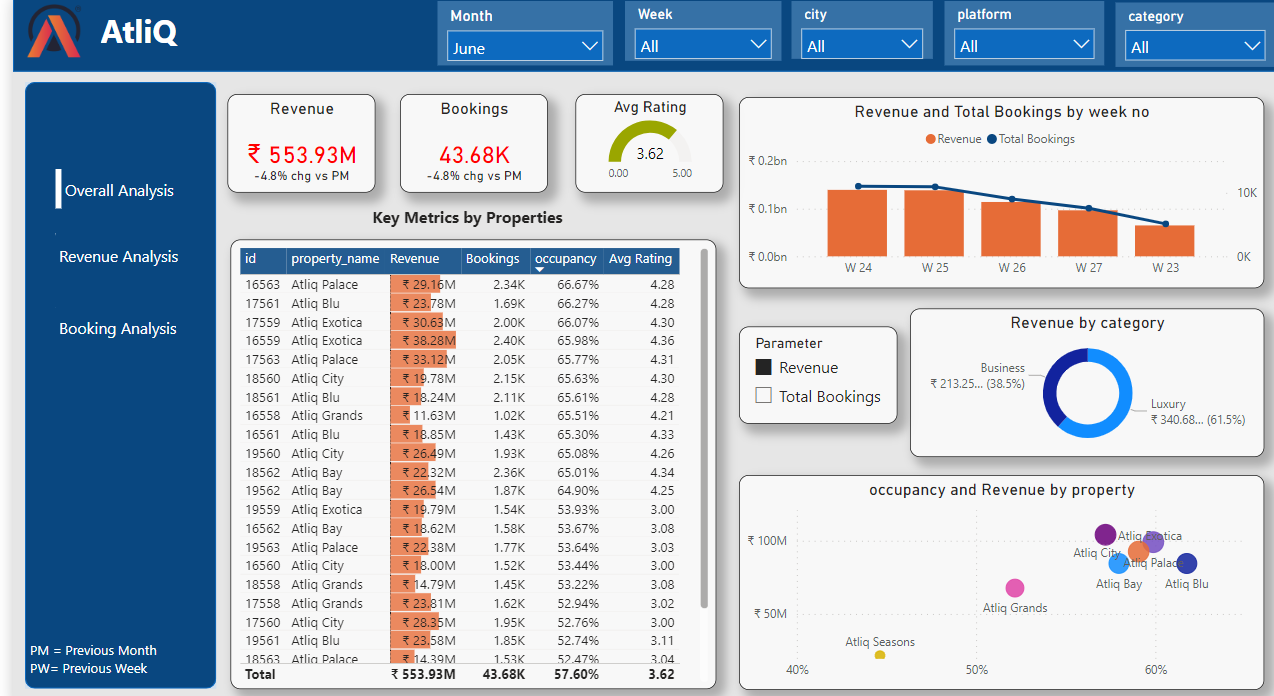

This screenshot's page, from the dashboard's own definition file:
{"tool":"powerbi","page":{"name":"Home","canvas":[1280,720],"ordinal":0},"visuals":[{"type":"shape","box":[0,0,1281.1,74.7],"z":0},{"type":"slicer","fields":{"Values":["dim_date.mmm-yy"]},"box":[430.7,3.7,178,65.2],"z":1000},{"type":"image","box":[0,0,84.7,65.5],"z":2000},{"type":"slicer","fields":{"Values":["dim_date.week no"]},"box":[619.9,3.7,158.9,60.4],"z":3000},{"type":"slicer","fields":{"Values":["dim_hotels.city"]},"box":[789.9,3.7,143,58.8],"z":4000},{"type":"slicer","fields":{"Values":["fact_bookings.booking_platform"]},"box":[944.1,3.7,162.1,65.2],"z":5000},{"type":"textbox","box":[84.1,6.5,123,58.2],"z":6000},{"type":"tableEx","fields":{"Values":["dim_hotels.property_id","dim_hotels.property_name","Key measures.Revenue","Key measures.Total Bookings","Key measures.occupancy %","Key measures.Avg Rating"]},"box":[220.2,245.3,492.6,455.9],"z":7000},{"type":"shape","box":[12.7,85.8,193.9,615.1],"z":8000},{"type":"shape","box":[7.7,174,77,40],"z":9000},{"type":"actionButton","box":[42.4,163.7,146.4,59.7],"z":10000},{"type":"shape","box":[8,239,77,40],"z":11000},{"type":"actionButton","box":[42.4,231.1,146.4,59.7],"z":12000},{"type":"shape","box":[7,314,77,40],"z":13000},{"type":"actionButton","box":[42.1,304,146.4,59.7],"z":14000},{"type":"card","title":"Revenue","fields":{"Values":["Key measures.Revenue"]},"box":[217.7,97.1,150,100],"z":15000},{"type":"card","fields":{"Values":["Key measures.revenue label"]},"box":[217.7,163.7,149.4,33.4],"z":16000},{"type":"gauge","fields":{"Y":["Key measures.Avg Rating"]},"box":[570.6,97,150,100.1],"z":17000},{"type":"lineStackedColumnComboChart","fields":{"Y":["Key measures.Revenue"],"Y2":["Key measures.Total Bookings"],"Category":["dim_date.week no"]},"box":[735.9,100.1,532.5,193.9],"z":18000},{"type":"slicer","fields":{"Values":["Parameter 2.Parameter"]},"box":[735.9,333.8,160.5,98.5],"z":19000},{"type":"donutChart","fields":{"Y":["Key measures.Revenue"],"Category":["dim_hotels.category"]},"box":[909.1,314.7,359.2,151],"z":20000},{"type":"scatterChart","title":"occupancy  and Revenue by property","fields":{"X":["Key measures.occupancy %"],"Y":["Key measures.Revenue"],"Category":["dim_hotels.property_name"],"Size":["Key measures.Total Bookings"],"Series":["dim_hotels.property_name"]},"box":[735.9,483.2,532.5,217.7],"z":21000},{"type":"slicer","fields":{"Values":["dim_hotels.category"]},"box":[1117.4,4.8,162.1,65.2],"z":22000},{"type":"card","title":"Bookings","fields":{"Values":["Key measures.Total Bookings"]},"box":[393,97.5,150,100],"z":23000},{"type":"card","fields":{"Values":["Key measures.booking label"]},"box":[393,164.2,149.4,33.4],"z":24000},{"type":"textbox","box":[214.6,205,492.7,41.3],"z":25000},{"type":"textbox","box":[12.7,646.9,193.9,73.1],"z":26000}]}

Visuals, with their boxes in screenshot pixels (x1, y1, x2, y2), scaled from the page's 1280x720 canvas onto the 1274x696 screenshot:
shape: [x1=0, y1=0, x2=1273, y2=72]
slicer - dim_date.mmm-yy: [x1=429, y1=4, x2=606, y2=67]
image: [x1=0, y1=0, x2=84, y2=63]
slicer - dim_date.week no: [x1=617, y1=4, x2=775, y2=62]
slicer - dim_hotels.city: [x1=786, y1=4, x2=929, y2=60]
slicer - fact_bookings.booking_platform: [x1=940, y1=4, x2=1101, y2=67]
textbox: [x1=84, y1=6, x2=206, y2=63]
tableEx - dim_hotels.property_id x dim_hotels.property_name: [x1=219, y1=237, x2=709, y2=678]
shape: [x1=13, y1=83, x2=206, y2=678]
shape: [x1=8, y1=168, x2=84, y2=207]
actionButton: [x1=42, y1=158, x2=188, y2=216]
shape: [x1=8, y1=231, x2=85, y2=270]
actionButton: [x1=42, y1=223, x2=188, y2=281]
shape: [x1=7, y1=304, x2=84, y2=342]
actionButton: [x1=42, y1=294, x2=188, y2=352]
"Revenue" card: [x1=217, y1=94, x2=366, y2=191]
card - Key measures.revenue label: [x1=217, y1=158, x2=365, y2=191]
gauge - Key measures.Avg Rating: [x1=568, y1=94, x2=717, y2=191]
lineStackedColumnComboChart - Key measures.Revenue x Key measures.Total Bookings: [x1=732, y1=97, x2=1262, y2=284]
slicer - Parameter 2.Parameter: [x1=732, y1=323, x2=892, y2=418]
donutChart - Key measures.Revenue x dim_hotels.category: [x1=905, y1=304, x2=1262, y2=450]
"occupancy  and Revenue by property" scatterChart: [x1=732, y1=467, x2=1262, y2=678]
slicer - dim_hotels.category: [x1=1112, y1=5, x2=1273, y2=68]
"Bookings" card: [x1=391, y1=94, x2=540, y2=191]
card - Key measures.booking label: [x1=391, y1=159, x2=540, y2=191]
textbox: [x1=214, y1=198, x2=704, y2=238]
textbox: [x1=13, y1=625, x2=206, y2=695]
